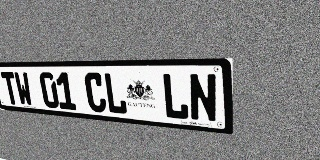0: (38, 72, 60, 109)
1: (54, 72, 76, 110)
C: (83, 72, 107, 113)
L: (161, 73, 189, 120), (103, 73, 128, 115)
N: (188, 73, 218, 123)
T: (0, 72, 20, 105)
W: (13, 72, 33, 106)
